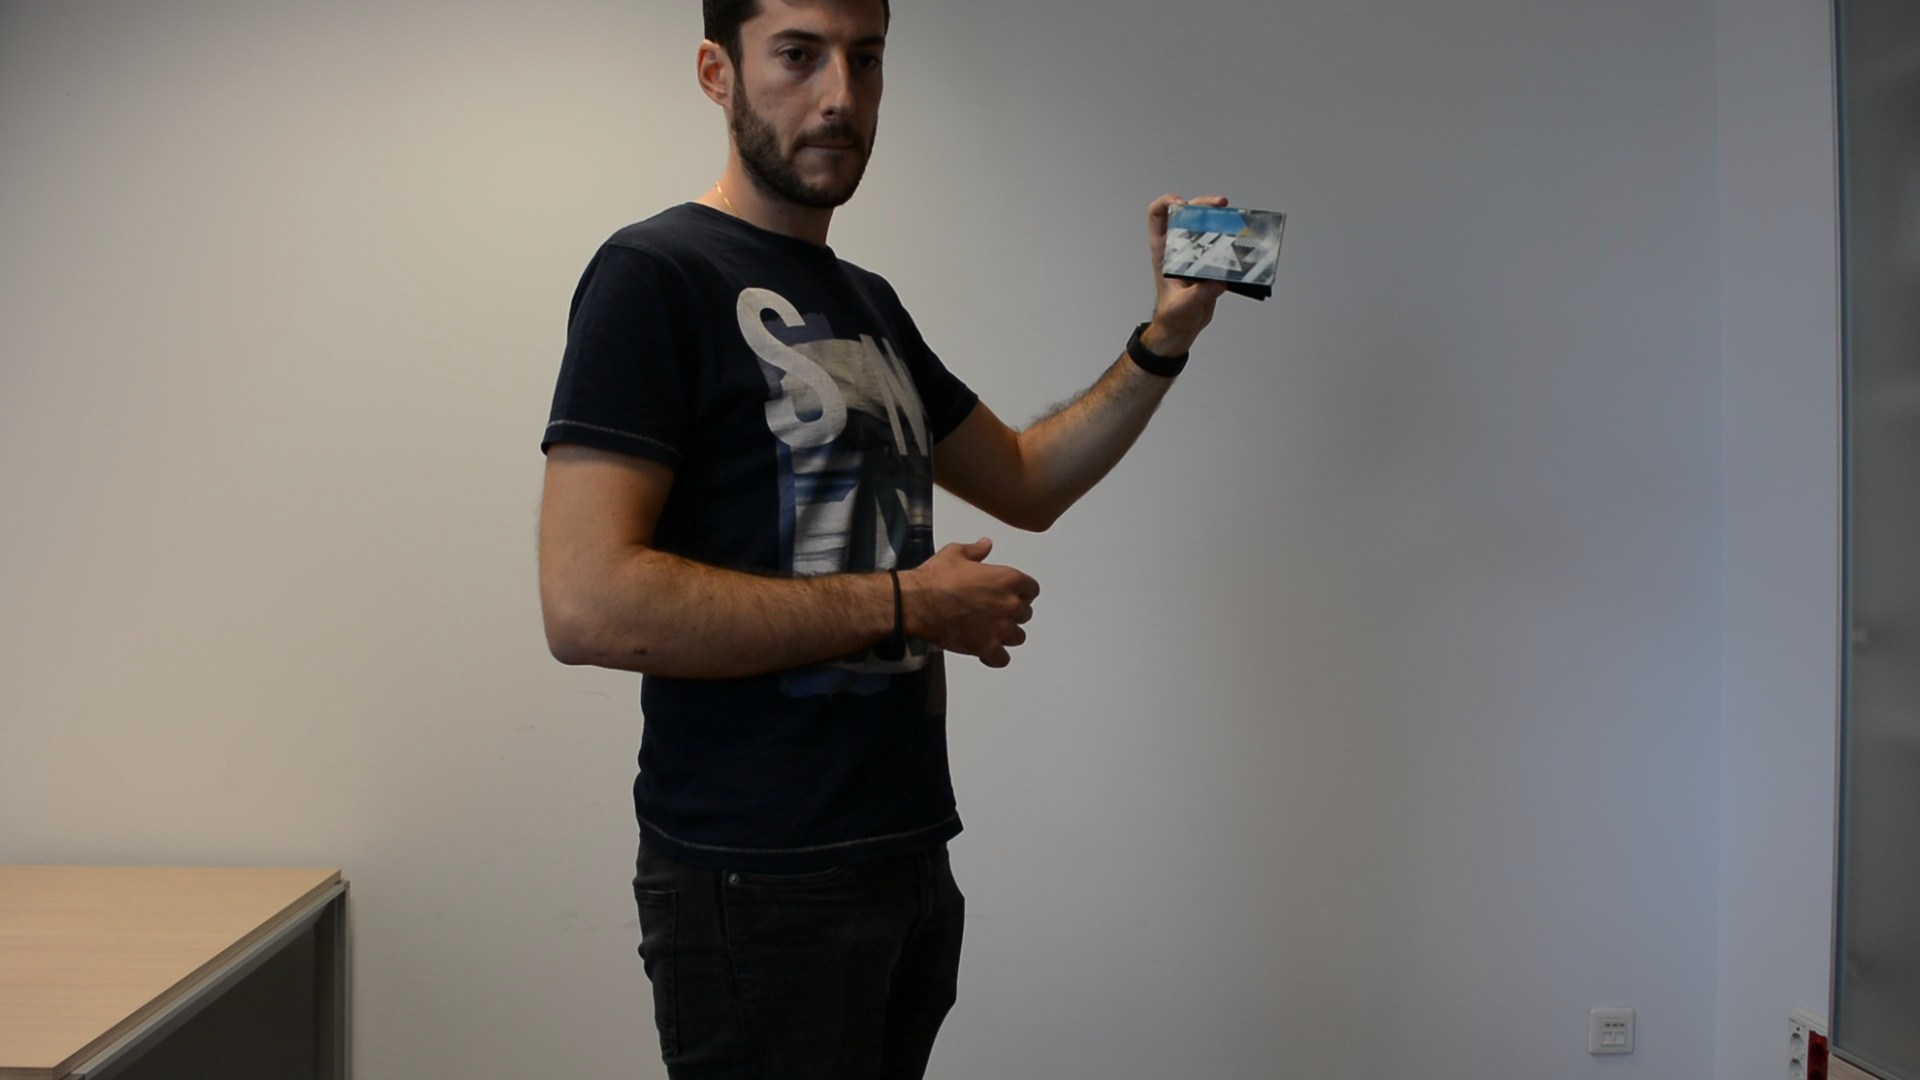monedero: (1159, 200, 1288, 302)
